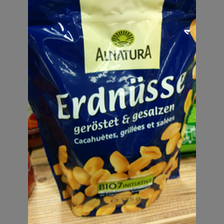nuts: (29, 1, 195, 218)
